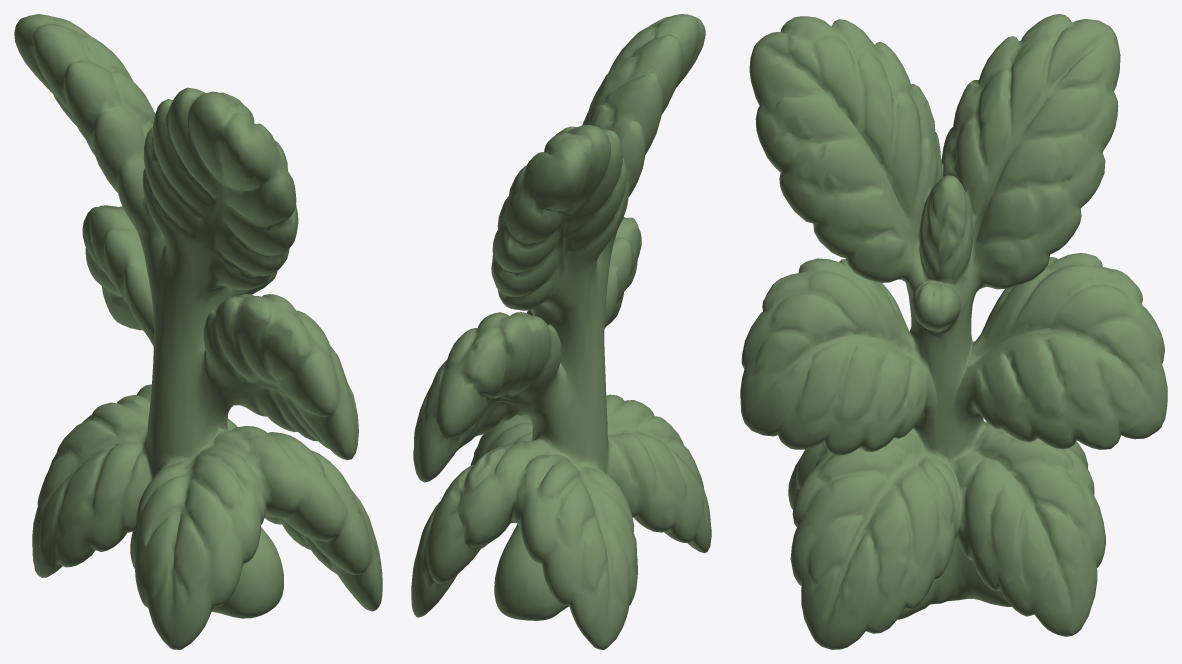
File: mint-bundle.glb
3 renders of one model, left to right at view 1: azimuth 30°, elevation 25°; view 2: azimuth 150°, elevation 25°; view 3: azimuth 270°, elevation 25°, orthographic. The views are drawn at different scales.
Visible parts, largest first — view 1: tripo_printable_source; view 2: tripo_printable_source; view 3: tripo_printable_source.
Boxes of the visible parts, left/top/right/bottom form: tripo_printable_source: left=14, top=14, right=382, bottom=649; tripo_printable_source: left=411, top=14, right=711, bottom=649; tripo_printable_source: left=740, top=14, right=1167, bottom=649.
Bounding box in the file's own units: 44.56 × 100 × 70.
